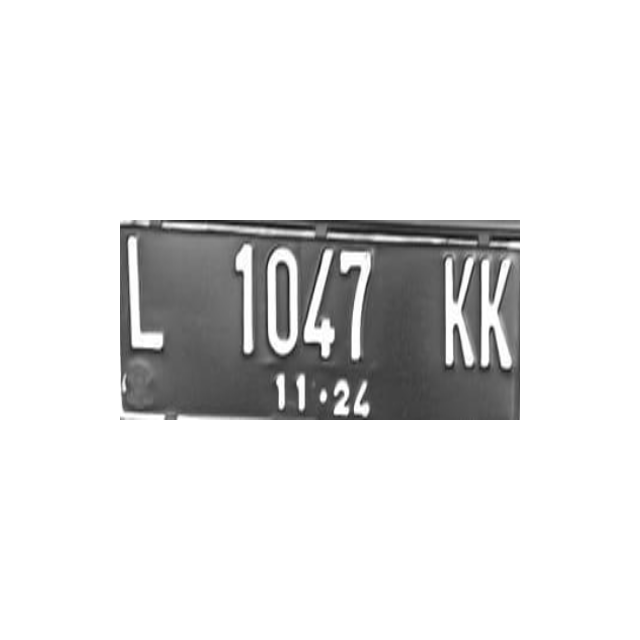contain: (124, 232, 168, 360), (214, 239, 258, 367), (261, 241, 305, 369), (301, 241, 337, 368), (336, 239, 372, 366), (441, 251, 477, 378), (478, 248, 514, 375)
